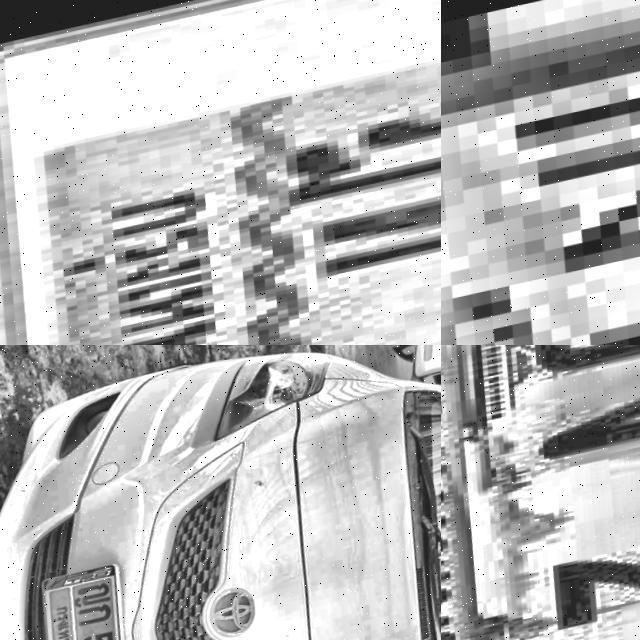license-plate: (0, 0, 441, 345), (441, 0, 640, 345), (441, 345, 640, 640), (27, 557, 162, 640)
